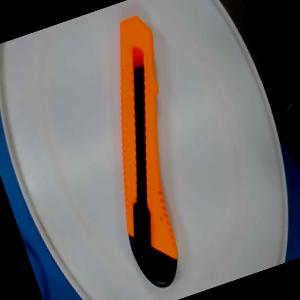estilete: (60, 11, 232, 293)
